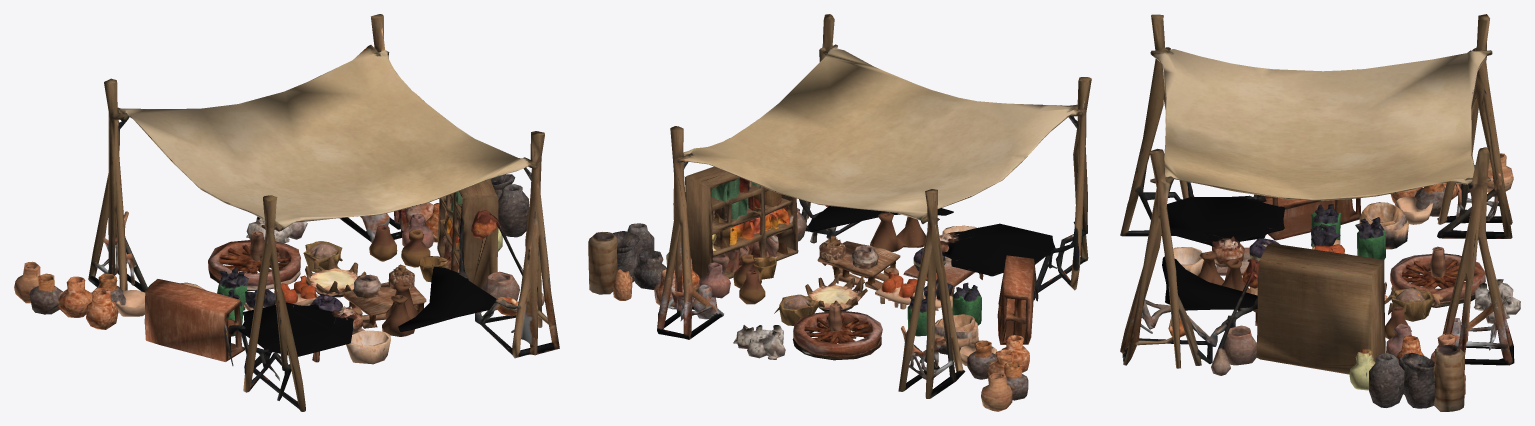
File: kiosk.glb
3 renders of one model, left to right at view 1: azimuth 30°, elevation 25°; view 2: azimuth 150°, elevation 25°; view 3: azimuth 270°, elevation 25°, orthographic. The views are drawn at different scales.
Parts seen in each view (by area): view 1: part0; view 2: part0; view 3: part0.
Part boxes in pixels (bbox=[...]): part0: bbox=[14, 14, 559, 411]; part0: bbox=[588, 14, 1091, 411]; part0: bbox=[1120, 14, 1520, 411].
Size of the model in its own units: 1 by 0.4281 by 0.7305.
Materials: 1 (1 with a texture image).
